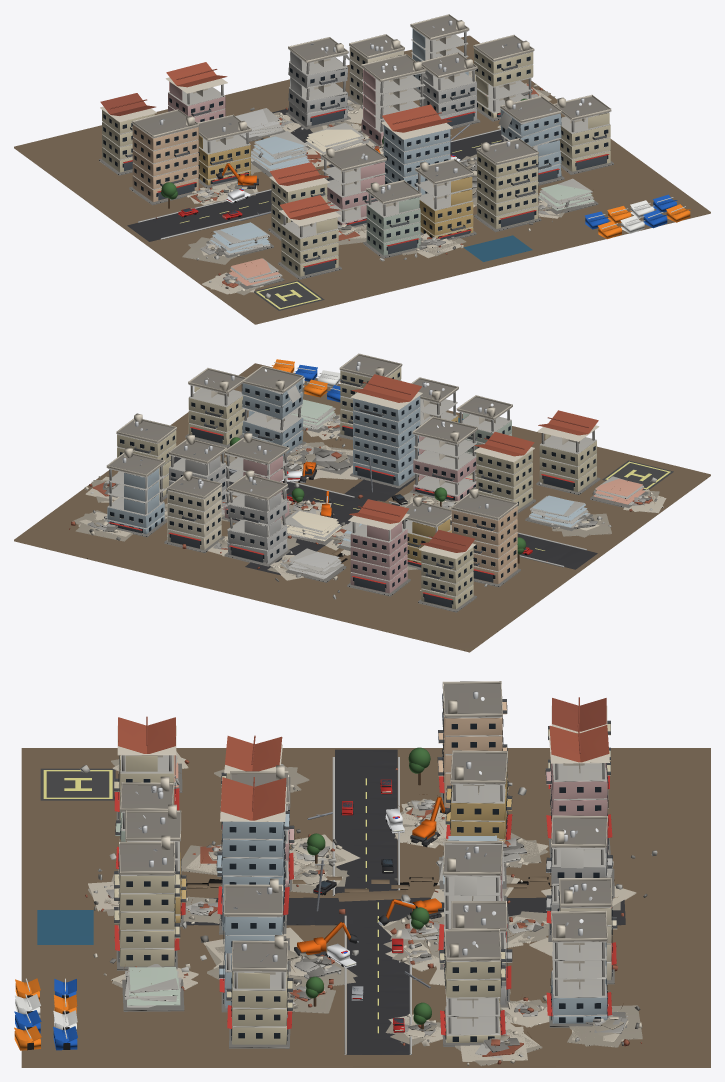
3 views of the same model, one above another, from view 1: azimuth 30°, elevation 25°; view 2: azimuth 150°, elevation 25°; view 3: azimuth 270°, elevation 25° (orthographic). The views are drawn at different scales.
Visible parts, largest first — view 1: c0, c6, c25, c14, c10, c21, c9, c24, c1, c26, c5, c8 (+20 smaller); view 2: c0, c6, c25, c14, c21, c10, c9, c5, c23, c24, c1, c26 (+17 smaller); view 3: c0, c14, c1, c6, c25, c10, c18, c17, c26, c21, c9, c5 (+22 smaller).
Part boxes in pixels (x1,y1,x2,y2): c0: [14, 35, 710, 324]; c6: [102, 28, 610, 298]; c25: [102, 48, 610, 276]; c14: [132, 16, 611, 204]; c10: [100, 14, 611, 290]; c21: [210, 28, 561, 253]; c9: [103, 52, 608, 271]; c24: [235, 50, 476, 137]; c1: [127, 108, 561, 241]; c26: [166, 62, 451, 219]; c5: [99, 88, 613, 289]; c8: [132, 124, 198, 201]; c0: [14, 363, 710, 652]; c6: [90, 367, 656, 599]; c25: [117, 367, 596, 609]; c14: [106, 355, 518, 526]; c21: [107, 379, 588, 547]; c10: [106, 353, 652, 604]; c9: [110, 372, 595, 604]; c5: [75, 415, 657, 612]; c23: [224, 436, 476, 593]; c24: [169, 455, 341, 578]; c1: [167, 456, 597, 575]; c26: [349, 374, 598, 523]; c0: [21, 748, 710, 1067]; c14: [119, 684, 612, 971]; c1: [184, 749, 625, 1054]; c6: [80, 717, 657, 1058]; c25: [114, 724, 610, 1044]; c10: [93, 681, 612, 1046]; c18: [88, 759, 642, 1066]; c17: [88, 751, 642, 1065]; c26: [118, 717, 609, 820]; c21: [217, 764, 607, 1023]; c9: [118, 693, 612, 1041]; c5: [93, 763, 647, 1052].
Bounding box in the file's own units: 120 × 111 × 23.2.
